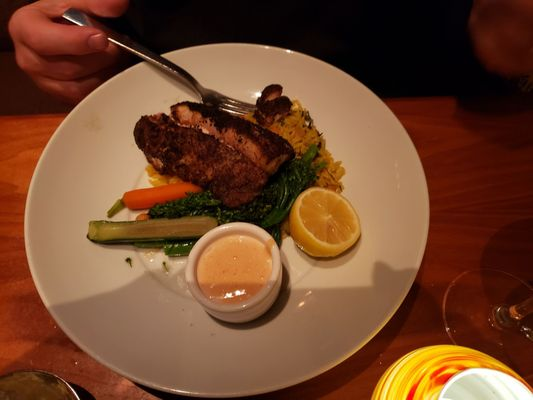salad: (61, 9, 259, 123)
sandwich: (63, 7, 260, 124)
sushi: (184, 222, 284, 325)
taco: (289, 187, 362, 259)
